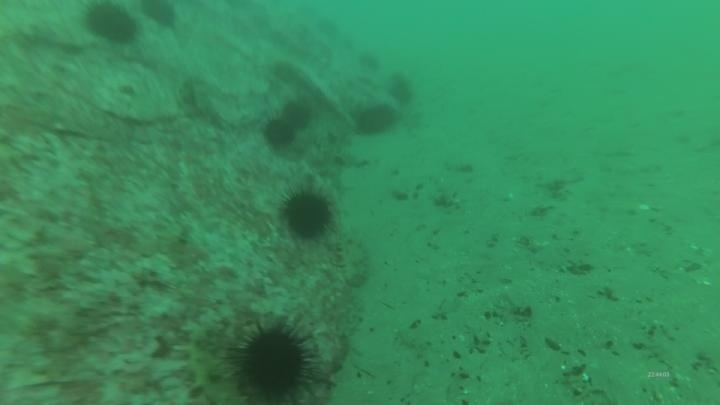echinus: (228, 316, 320, 403), (277, 185, 337, 243), (101, 16, 154, 50), (351, 101, 398, 139), (76, 1, 128, 33), (260, 115, 298, 151), (279, 97, 315, 133), (138, 1, 180, 31), (386, 72, 417, 107), (356, 49, 383, 74)
holothurian: (179, 318, 247, 405), (333, 230, 372, 291)
